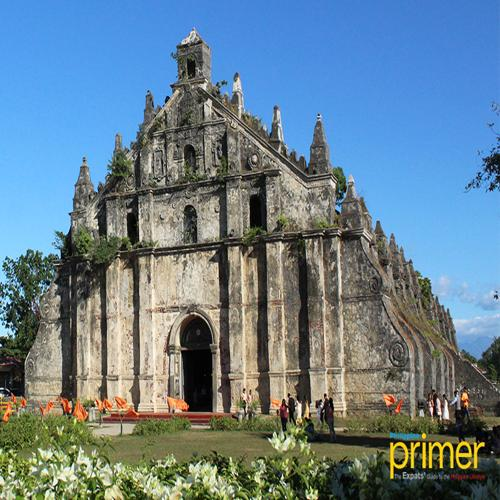Paoay Church: (18, 32, 471, 429)
